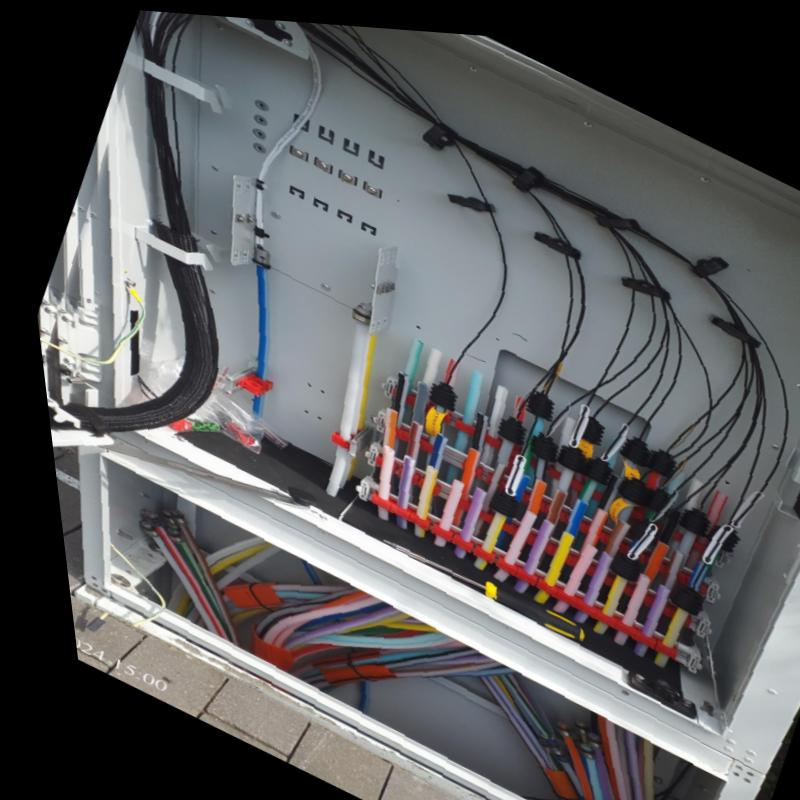NT-Gehause: (33, 8, 800, 800)
